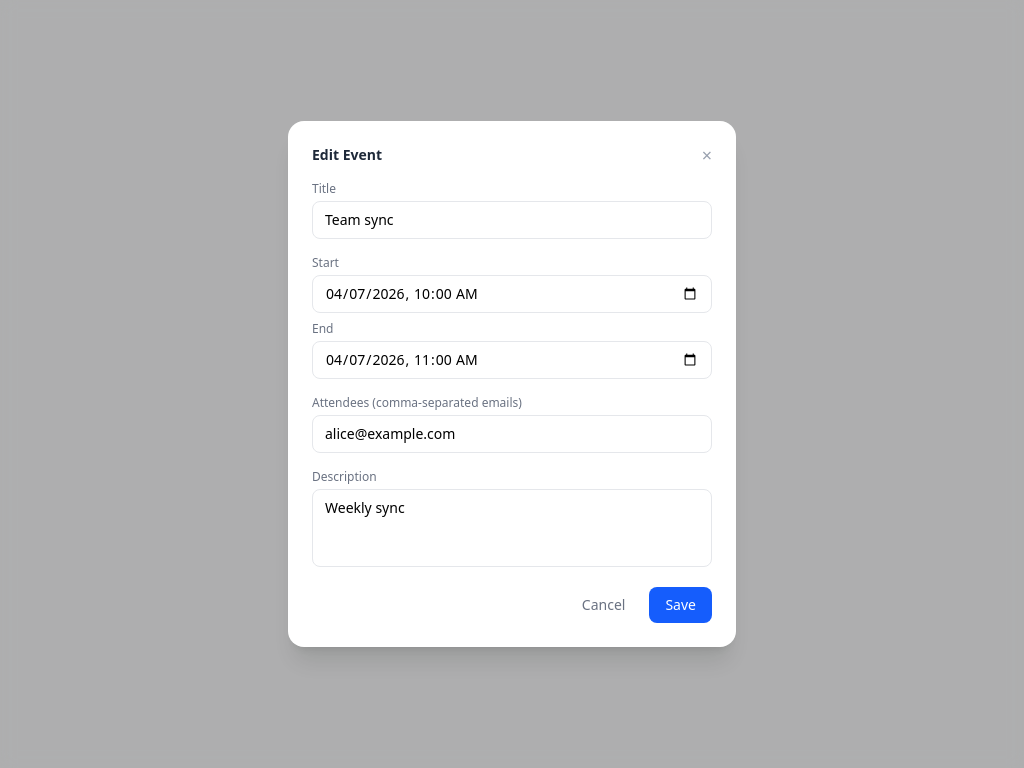
Scenario: CalendarEventModal › shows error message when save fails
The width and height of the screenshot is (1024, 768).
What coordinates should you click on to do the following:
click the button with test id "modal-save-btn"
I would click on:
 (681, 605)
Its box is [649,587,712,623].
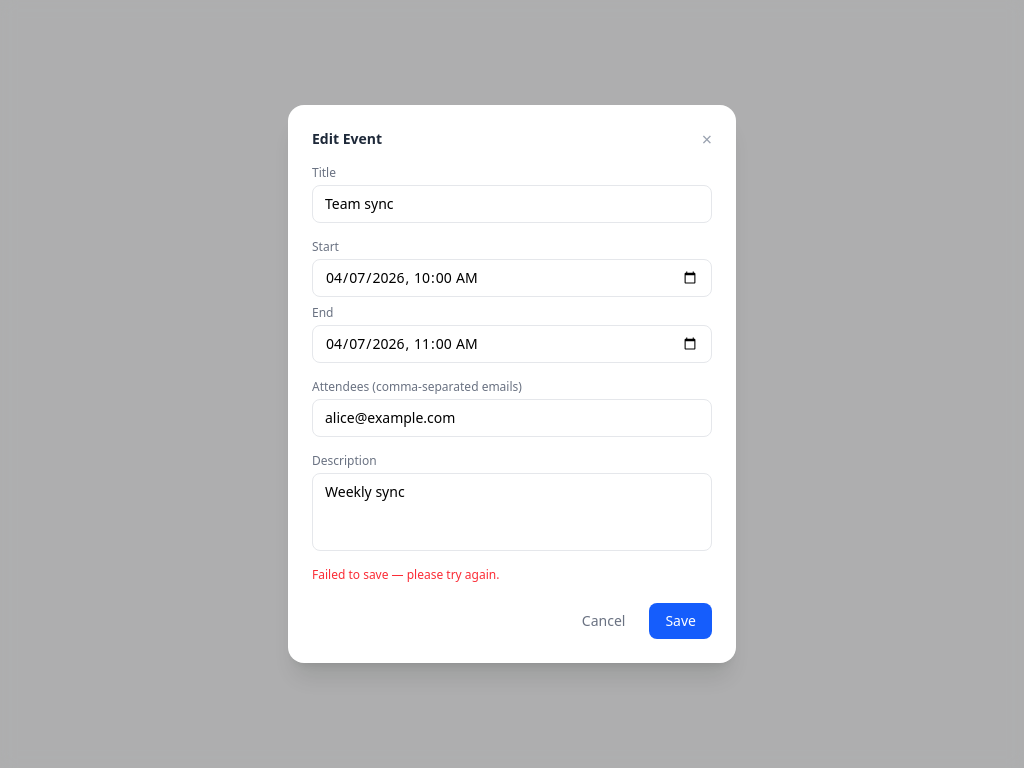
Check: the text "Failed to save — please try again." is shown, box [312,566,499,583]
